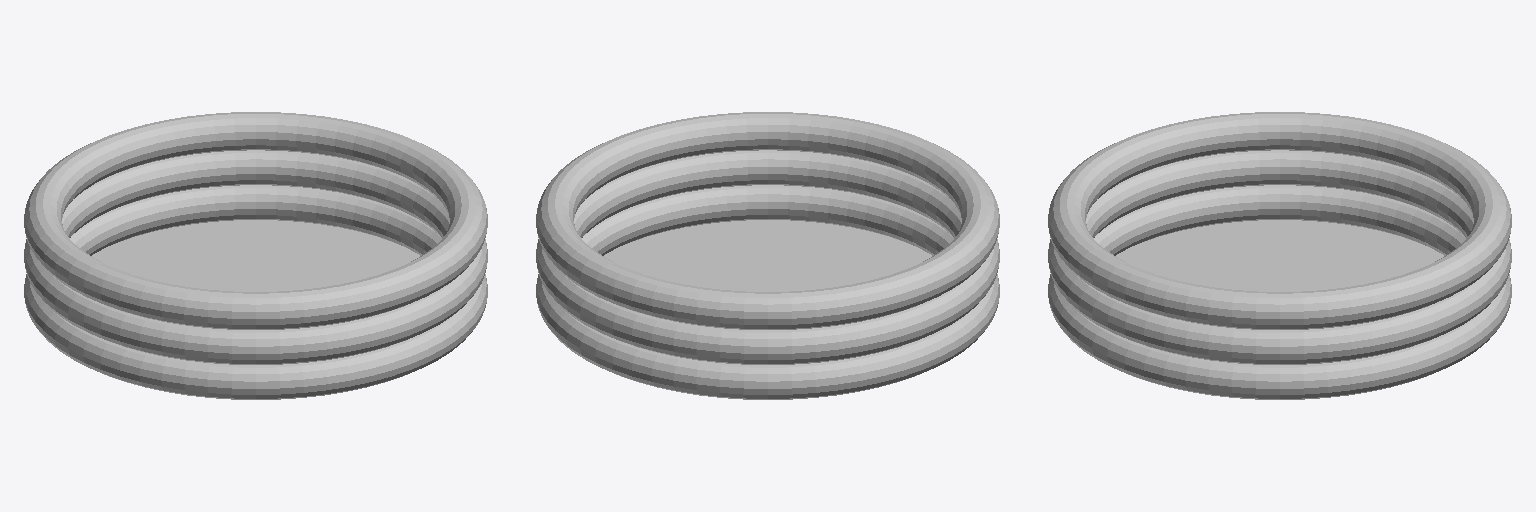
Rendered from FD_pool.obj.
3 renders of one model, left to right at view 1: azimuth 30°, elevation 25°; view 2: azimuth 150°, elevation 25°; view 3: azimuth 270°, elevation 25°, orthographic.
Visible parts, largest first — view 1: InflatablePool; view 2: InflatablePool; view 3: InflatablePool.
Boxes of the visible parts, x1=… form: InflatablePool: x1=24, y1=112, x2=487, y2=399; InflatablePool: x1=536, y1=112, x2=999, y2=399; InflatablePool: x1=1048, y1=112, x2=1511, y2=399.
Bounding box in the file's own units: 39.46 × 9.8 × 39.46.